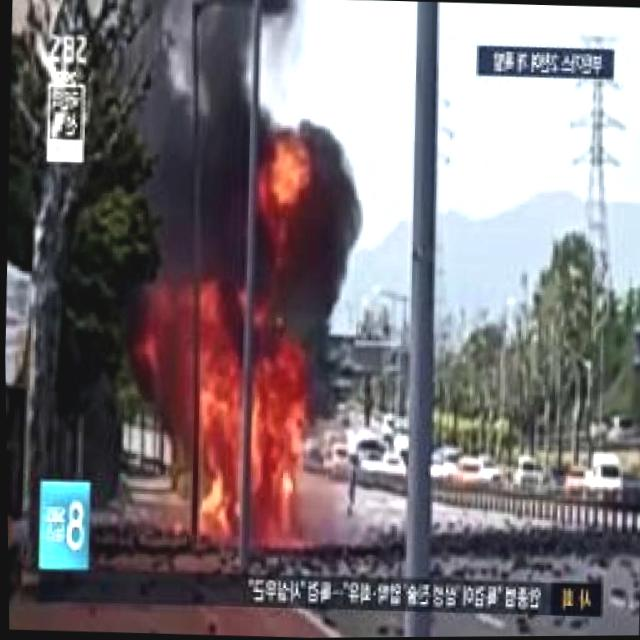Fire: (190, 371, 292, 539), (251, 127, 315, 235)
Smoke: (144, 0, 264, 287), (287, 111, 366, 419)
